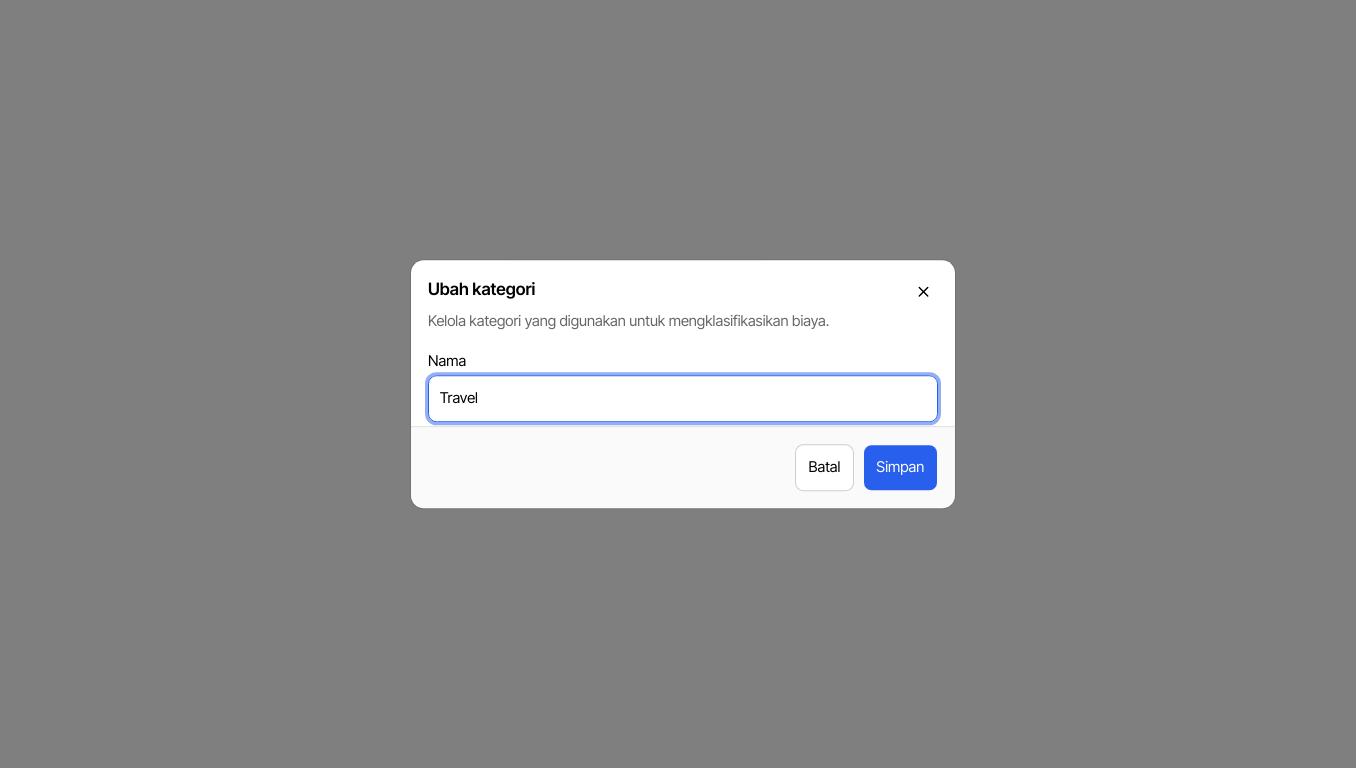
Test: ExpenseCategoryFormDialog › seeds the name when editing and accepts changes
In the field showing "Travel": [683, 398] box [428, 375, 938, 422], type " Plus"
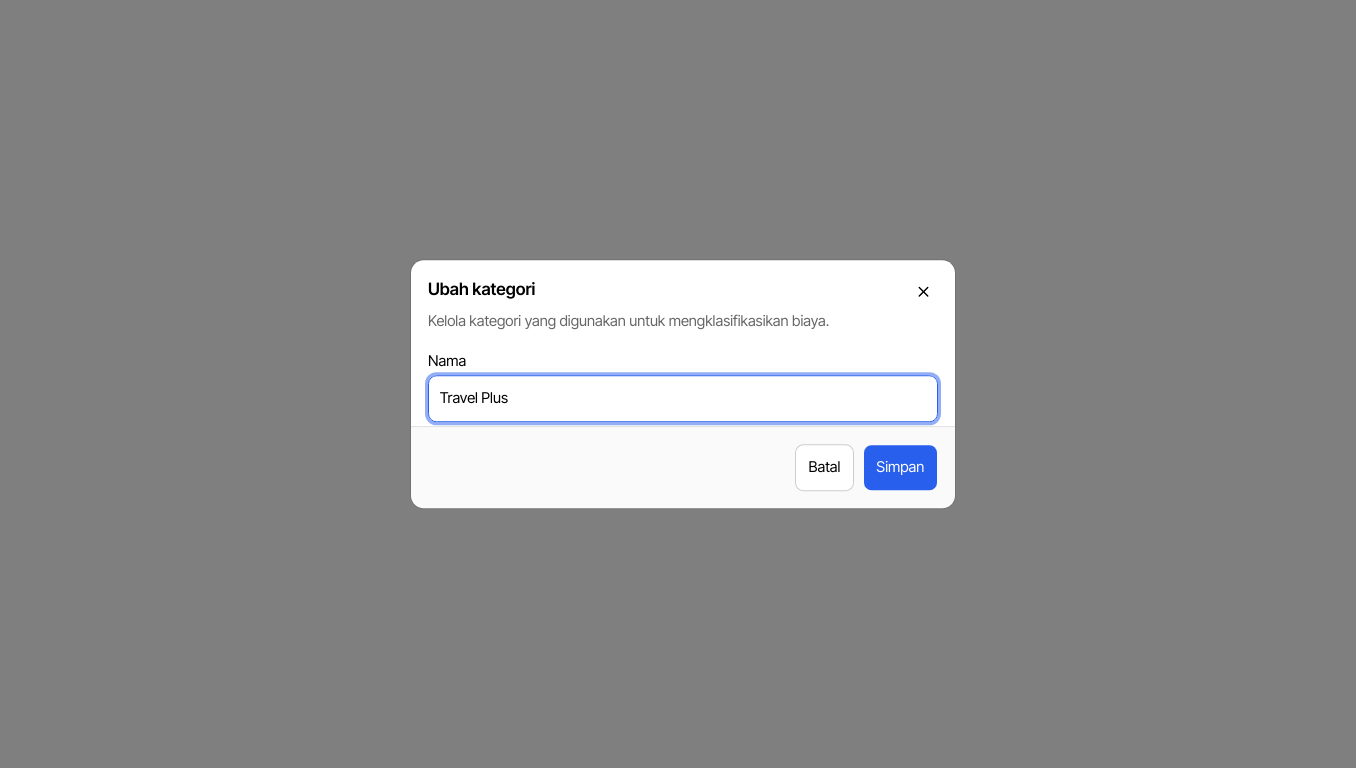
Check: the field showing "Travel" holds "Travel Plus", box [428, 375, 938, 422]
